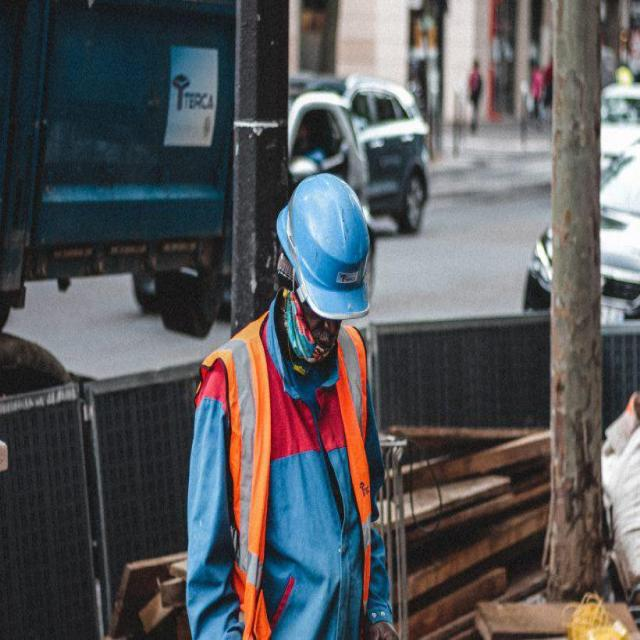helmet: (277, 175, 372, 318)
